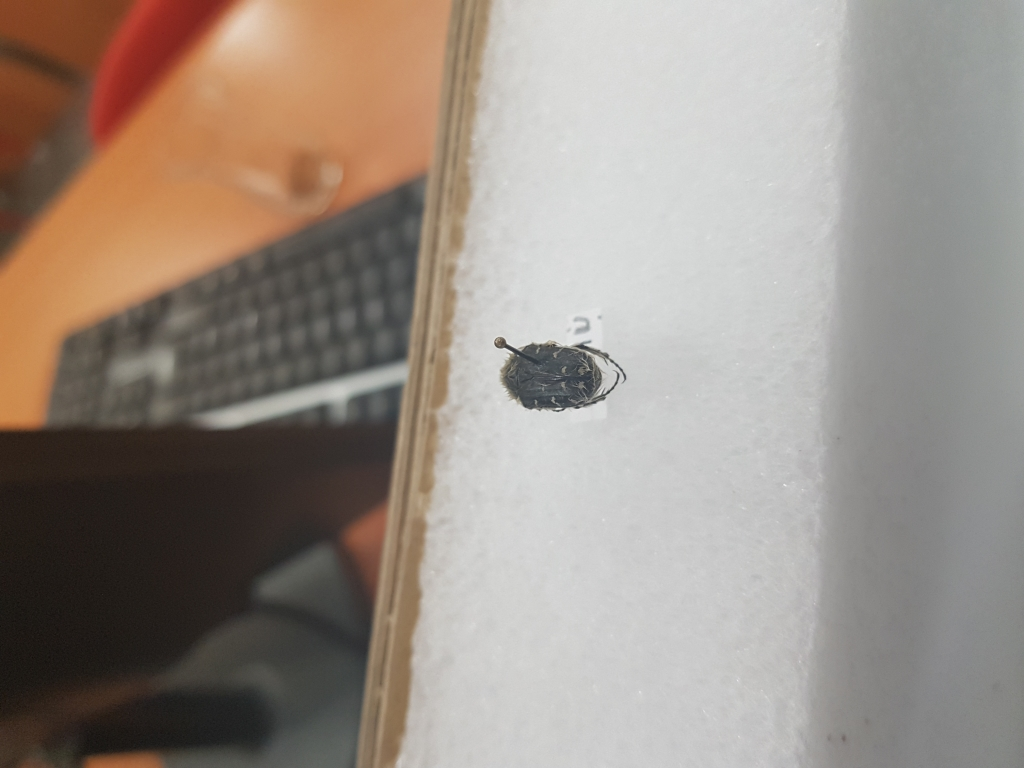Tropinota_senicula: (499, 326, 638, 419)
